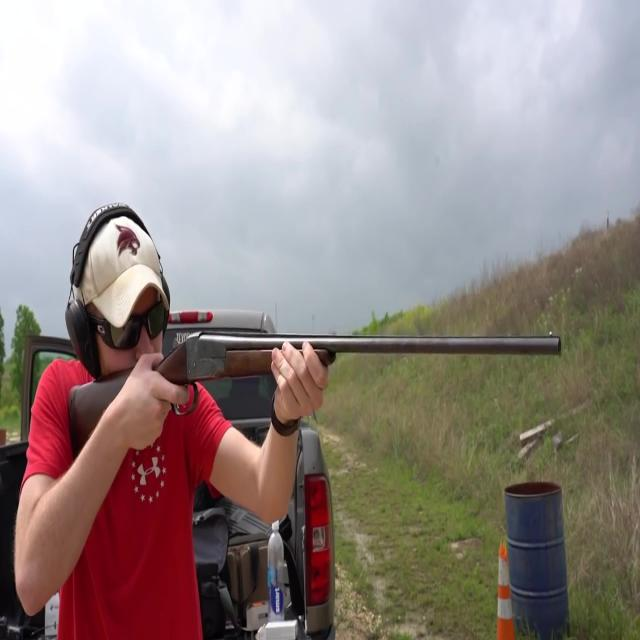Weapon: (53, 310, 591, 478)
